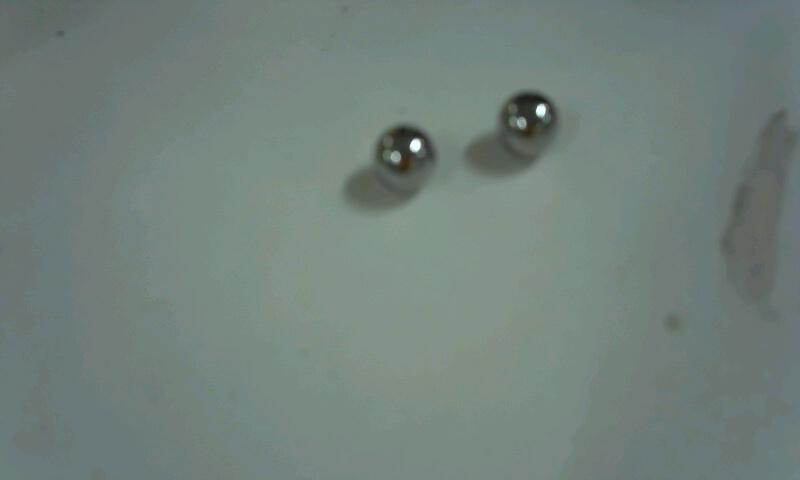steelball: (354, 110, 447, 205), (489, 78, 576, 168)
